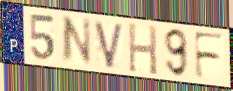5: (28, 14, 56, 62)
9: (162, 28, 190, 79)
F: (192, 30, 226, 82)
H: (127, 21, 159, 77)
N: (60, 15, 93, 65)
V: (93, 19, 126, 71)
